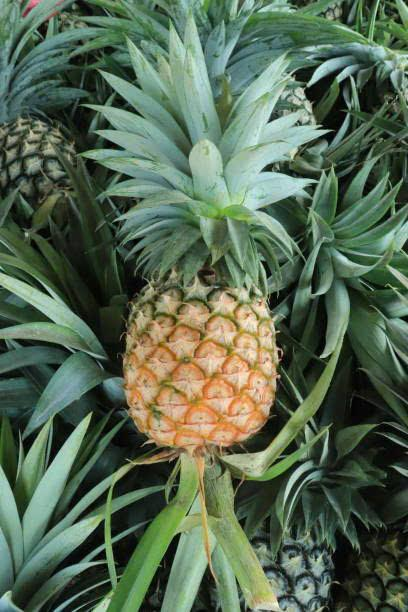pineapple: (93, 25, 300, 448)
